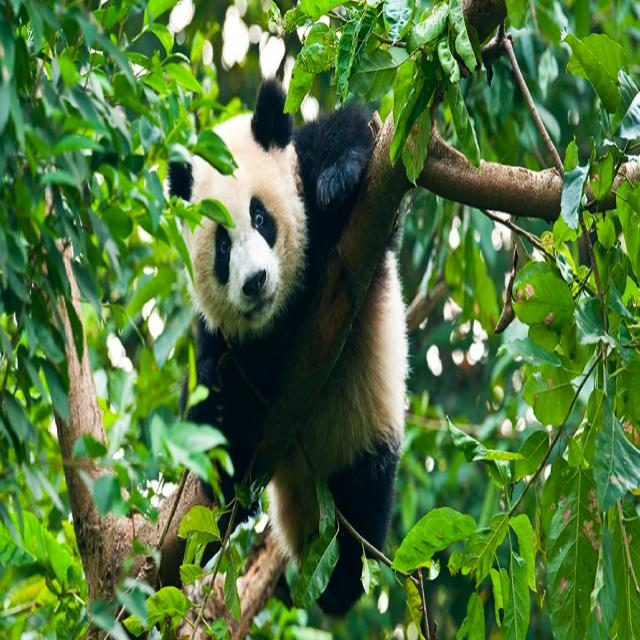panda: (170, 78, 410, 615)
